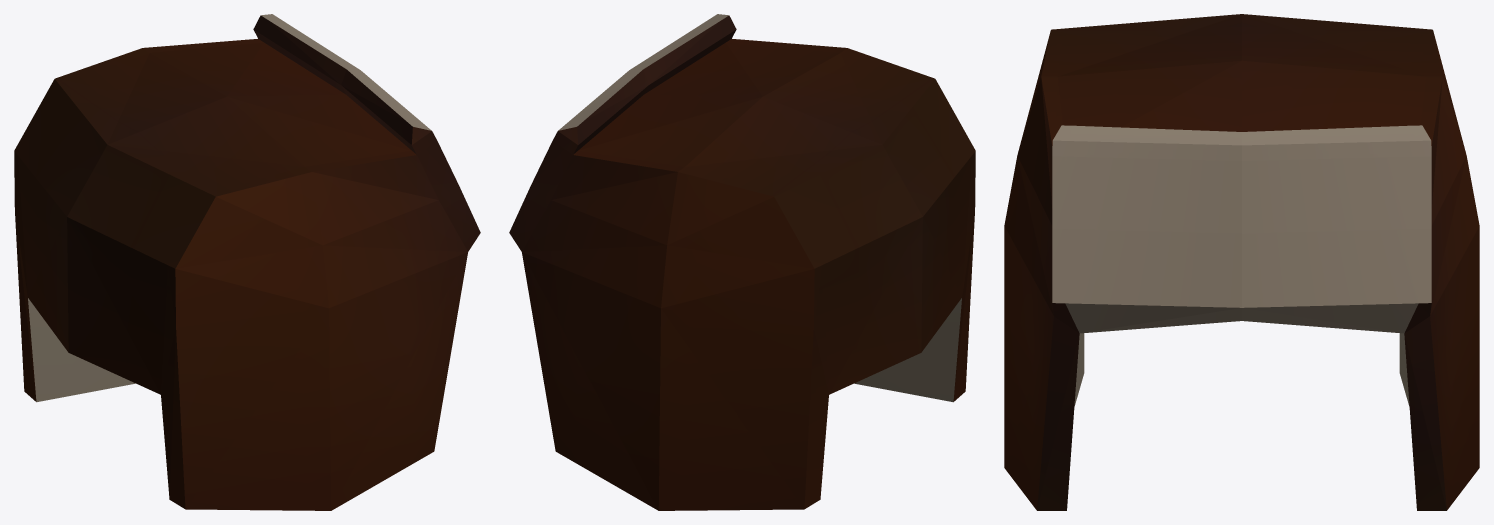
The model's file is USHANKA.fbx.
3 renders of one model, left to right at view 1: azimuth 30°, elevation 25°; view 2: azimuth 150°, elevation 25°; view 3: azimuth 270°, elevation 25°, orthographic. The views are drawn at different scales.
Parts seen in each view (by area): view 1: USHANKA; view 2: USHANKA; view 3: USHANKA.
Part boxes in pixels (x1,y1,x2,y2): USHANKA: [14, 14, 480, 510]; USHANKA: [509, 14, 975, 510]; USHANKA: [1004, 14, 1479, 510].
Size of the model in its own units: 28.36 by 27.07 by 28.79.
